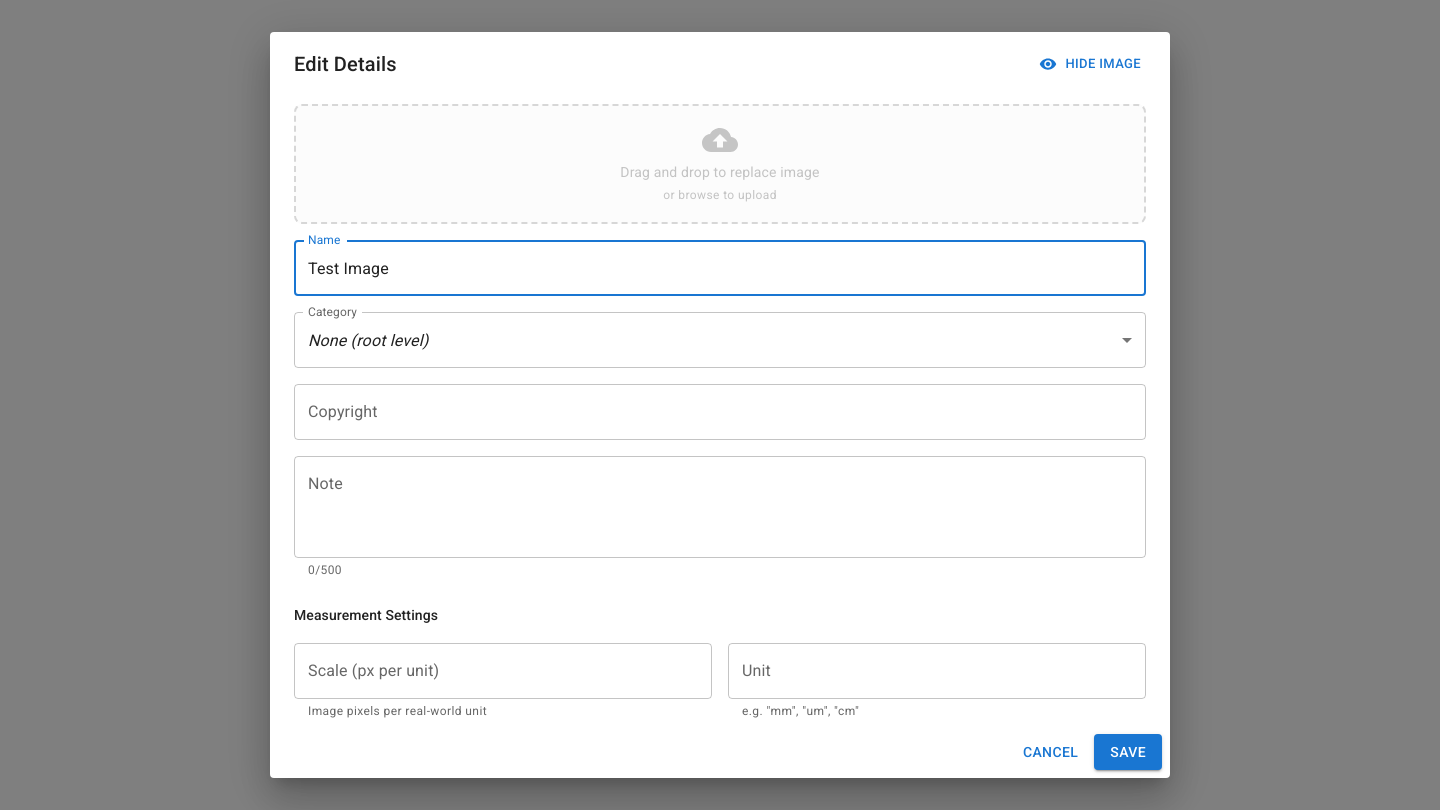
EditImageModal – form fields and save › disables Save when name is empty
Clear the field showing "Test Image": (720, 268) [294,240,1146,296]
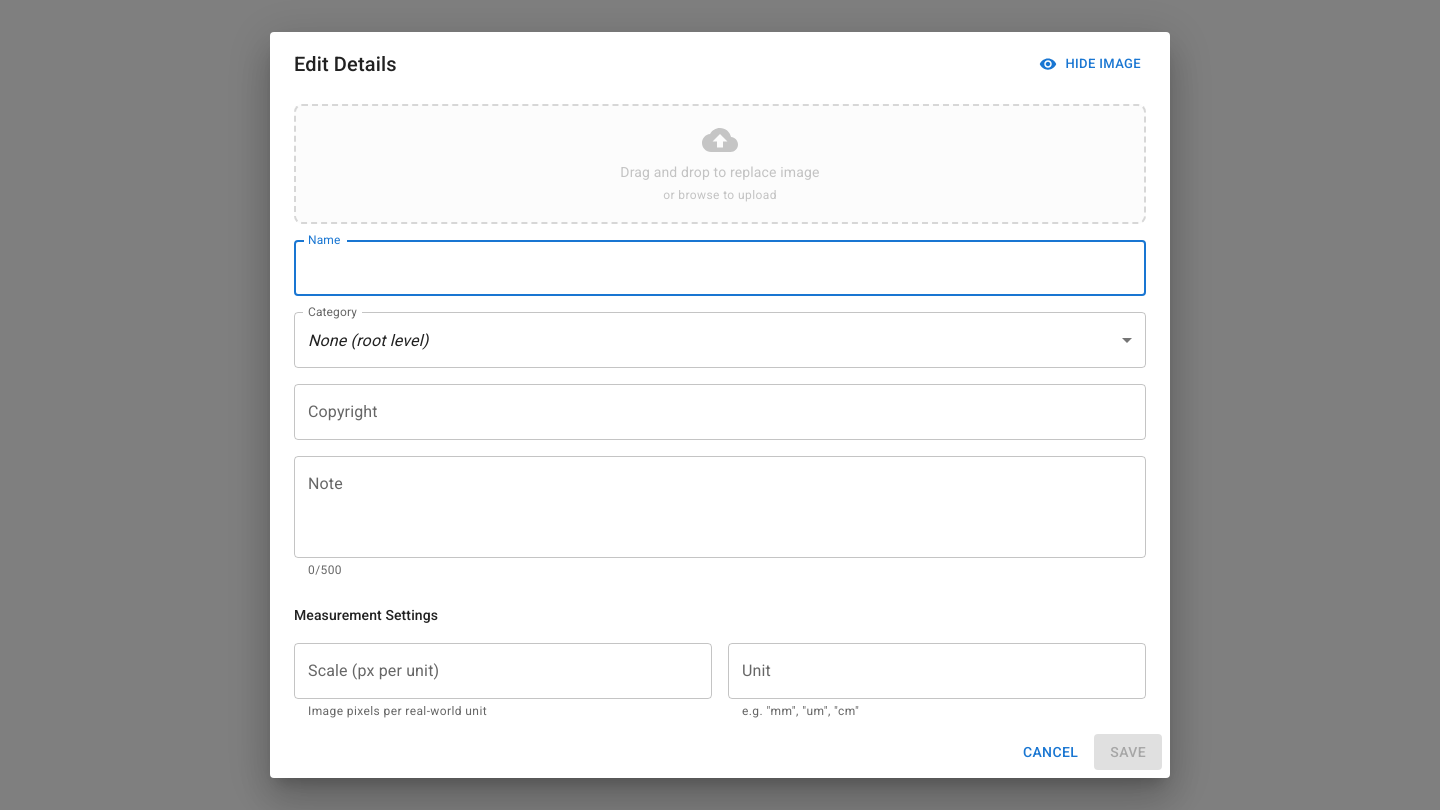
Now the button "Save" is disabled, box [1094,734,1162,770]
